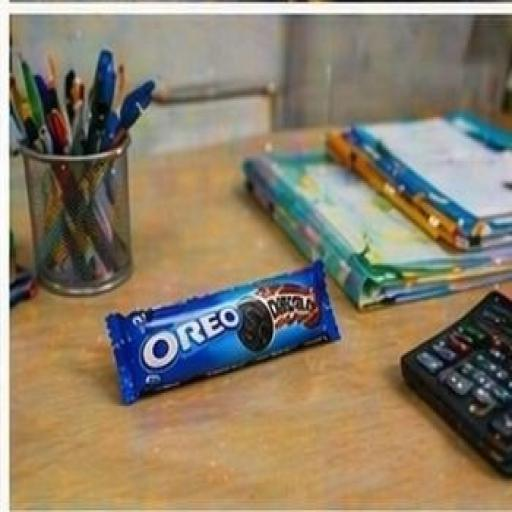oreo: (82, 243, 390, 425)
